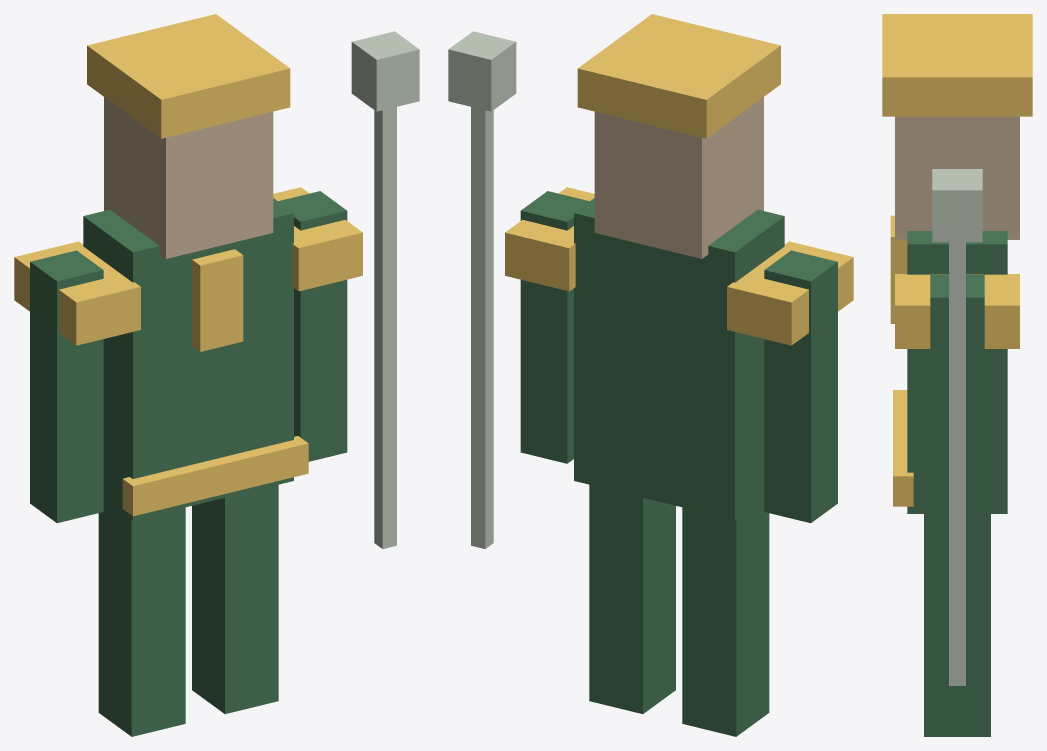
Rendered from 20_cassian_mossguard_operator_at_veilwalk.glb.
3 views of the same model, side by side, from view 1: azimuth 30°, elevation 25°; view 2: azimuth 150°, elevation 25°; view 3: azimuth 270°, elevation 25° (orthographic).
Visible parts, largest first — view 1: Cassian Mossguard, Operator at Veilwalk; view 2: Cassian Mossguard, Operator at Veilwalk; view 3: Cassian Mossguard, Operator at Veilwalk.
Boxes of the visible parts, x1,y1,x2,y2 form: Cassian Mossguard, Operator at Veilwalk: (14,14,419,736); Cassian Mossguard, Operator at Veilwalk: (448,14,853,736); Cassian Mossguard, Operator at Veilwalk: (882,14,1032,736).
Size of the model in its own units: 0.9642 by 1.65 by 0.342.
